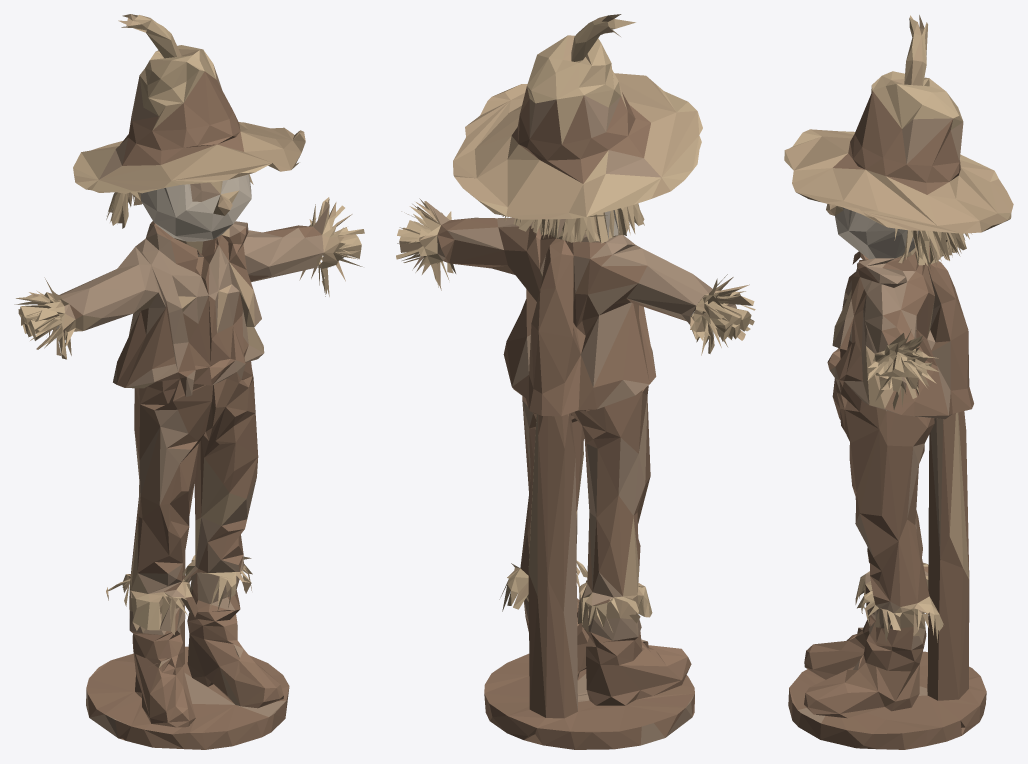
Rendered from scarecrow.glb.
3 renders of one model, left to right at view 1: azimuth 30°, elevation 25°; view 2: azimuth 150°, elevation 25°; view 3: azimuth 270°, elevation 25°, orthographic. The views are drawn at different scales.
Visible parts, largest first — view 1: geometry_0; view 2: geometry_0; view 3: geometry_0.
Part boxes in pixels (x1=…): geometry_0: x1=14, y1=14, x2=364, y2=749; geometry_0: x1=396, y1=14, x2=755, y2=749; geometry_0: x1=784, y1=15, x2=1013, y2=749.
Size of the model in its own units: 0.9743 by 1.95 by 0.6028.
